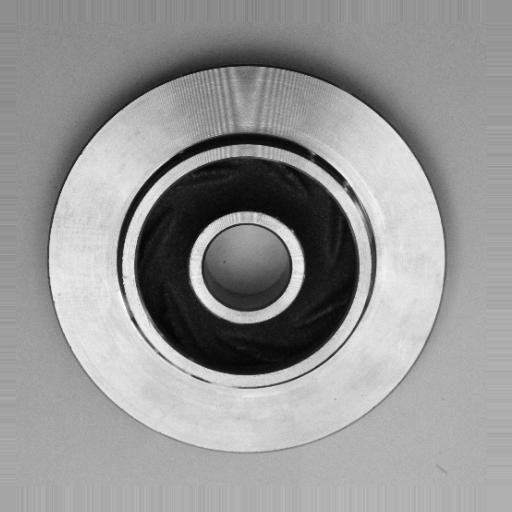unpolished_casting: (45, 58, 450, 458)
